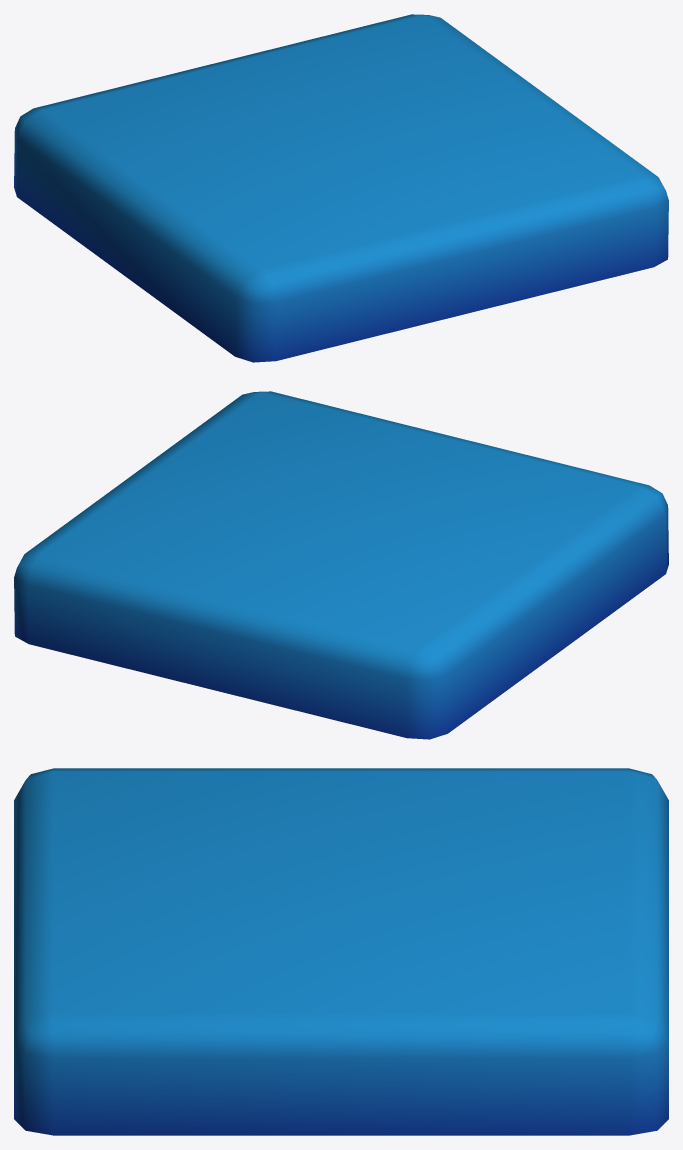
Rendered from SM_Prototype _010.fbx.
3 renders of one model, top to bottom at view 1: azimuth 30°, elevation 25°; view 2: azimuth 150°, elevation 25°; view 3: azimuth 270°, elevation 25°, orthographic. The views are drawn at different scales.
Parts seen in each view (by area): view 1: SM_Prototype _010; view 2: SM_Prototype _010; view 3: SM_Prototype _010.
Boxes of the visible parts, <box> form: SM_Prototype _010: <box>14,14,668,362</box>; SM_Prototype _010: <box>14,391,668,739</box>; SM_Prototype _010: <box>14,768,668,1135</box>.
Bounding box in the file's own units: 1.5 × 0.2737 × 1.49.
